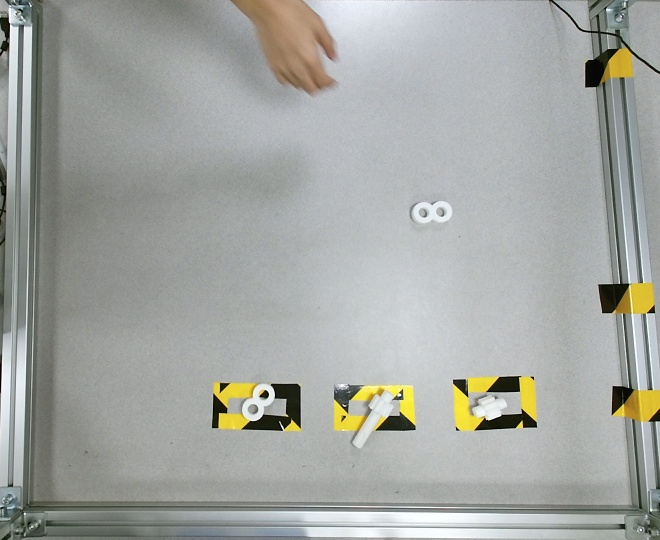stage_1: (411, 200, 453, 223)
